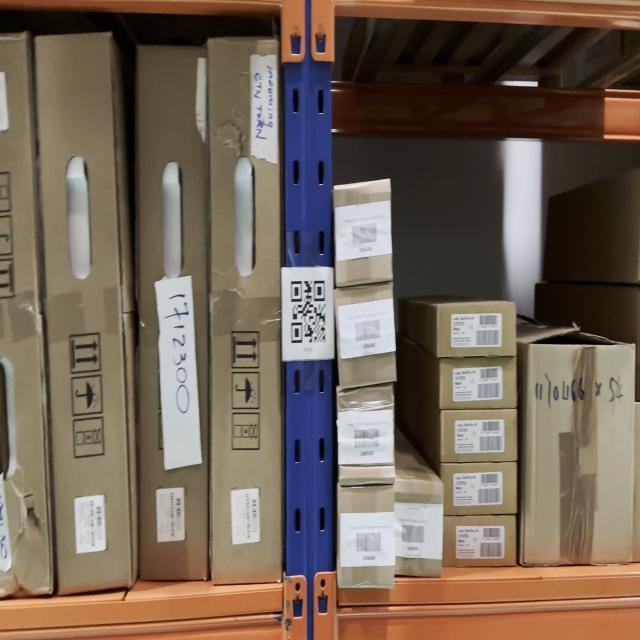box: (32, 33, 134, 596), (134, 41, 212, 582), (210, 36, 282, 582), (524, 344, 638, 567), (335, 285, 396, 385), (335, 182, 392, 286), (335, 390, 398, 484), (339, 484, 395, 584), (438, 302, 517, 357), (446, 510, 520, 566), (440, 357, 518, 410), (442, 410, 517, 464), (444, 462, 516, 513)
